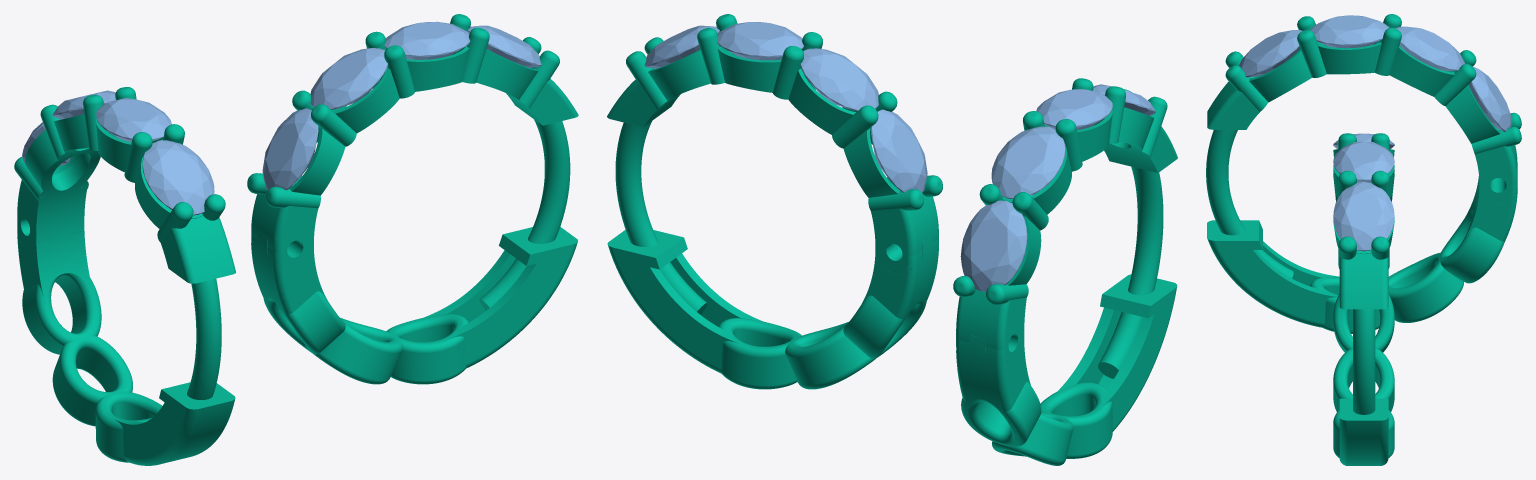
3 views of the same model, side by side, from view 1: azimuth 30°, elevation 25°; view 2: azimuth 150°, elevation 25°; view 3: azimuth 270°, elevation 25° (orthographic). The views are drawn at different scales.
Parts seen in each view (by area): view 1: VEAR707.3dm, Diamond_Oval (×7), Bezel (×8), Prong (×9); view 2: VEAR707.3dm, Diamond_Oval (×8), Bezel (×8), Prong (×10); view 3: VEAR707.3dm, Diamond_Oval (×6), Bezel (×4), Prong (×7).
Part boxes in pixels (box(x1,y1,x2,y2)): VEAR707.3dm: box(17, 79, 578, 465); Diamond_Oval (×7): box(52, 21, 541, 215); Bezel (×8): box(25, 46, 538, 228); Prong (×9): box(40, 27, 559, 242); VEAR707.3dm: box(607, 79, 1177, 465); Diamond_Oval (×8): box(644, 22, 1155, 291); Bezel (×8): box(648, 46, 1153, 285); Prong (×10): box(626, 27, 1167, 304); VEAR707.3dm: box(1206, 81, 1517, 465); Diamond_Oval (×6): box(1239, 15, 1511, 251); Bezel (×4): box(1249, 40, 1499, 143); Prong (×7): box(1225, 28, 1521, 268).
Size of the model in its own units: 2.9 by 2 by 1.9.
